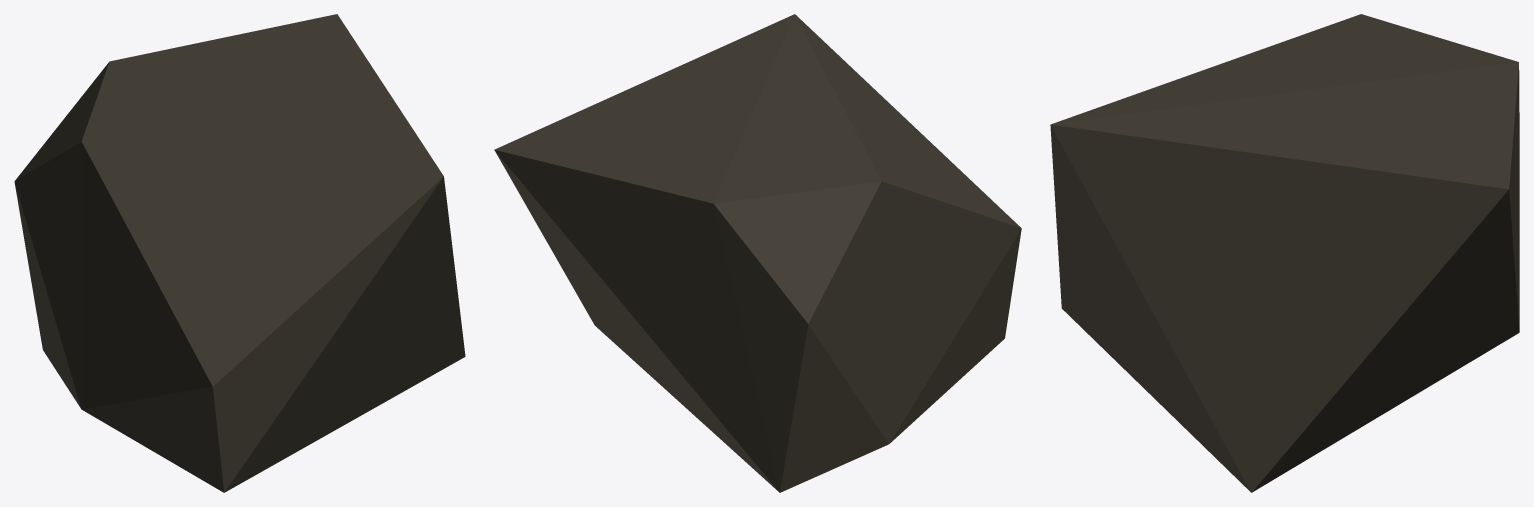
Rendered from Brick_Single_11.fbx.
3 renders of one model, left to right at view 1: azimuth 30°, elevation 25°; view 2: azimuth 150°, elevation 25°; view 3: azimuth 270°, elevation 25°, orthographic. The views are drawn at different scales.
Visible parts, largest first — view 1: Group30451; view 2: Group30451; view 3: Group30451.
Boxes of the visible parts, box(x1,y1,x2,y2) form: Group30451: box(14, 14, 465, 492); Group30451: box(494, 14, 1021, 492); Group30451: box(1050, 14, 1519, 492).
Bounding box in the file's own units: 0.5468 × 0.4292 × 0.5804.
